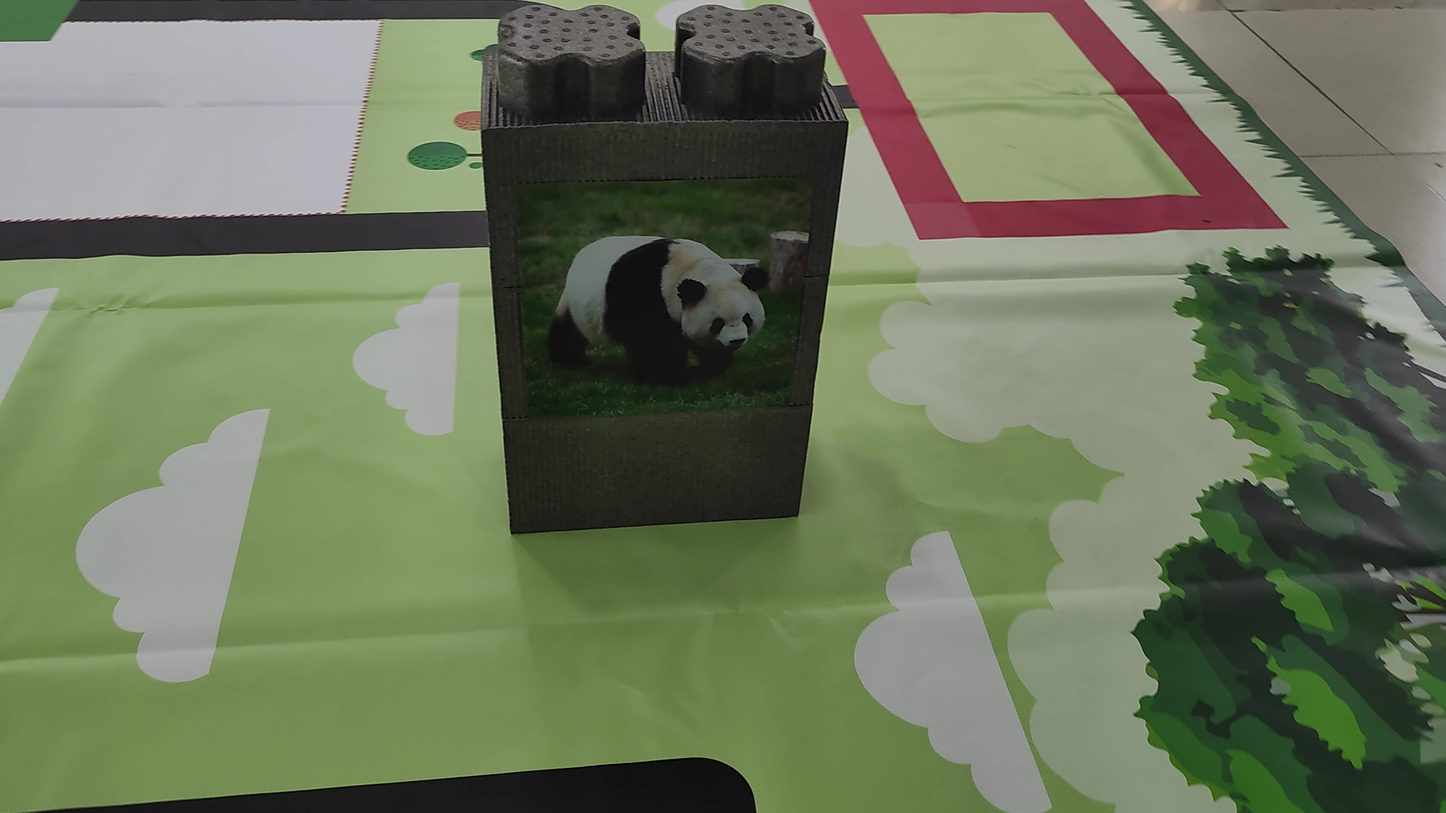panda: (508, 193, 773, 395)
